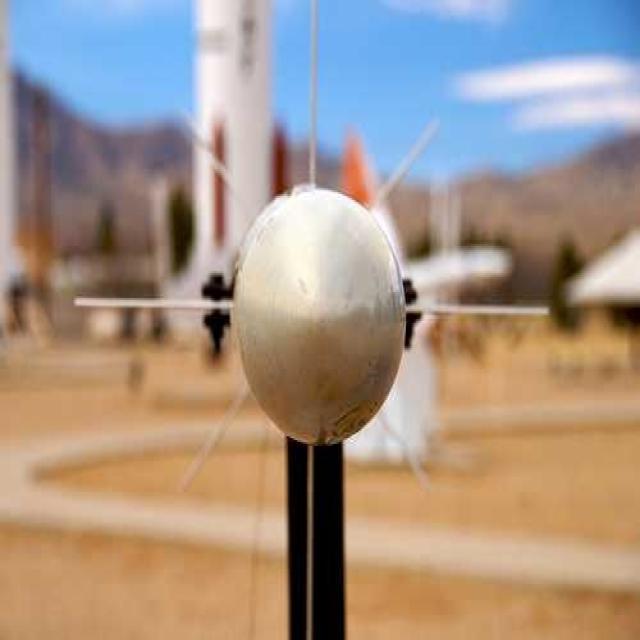missile: (72, 31, 535, 485)
